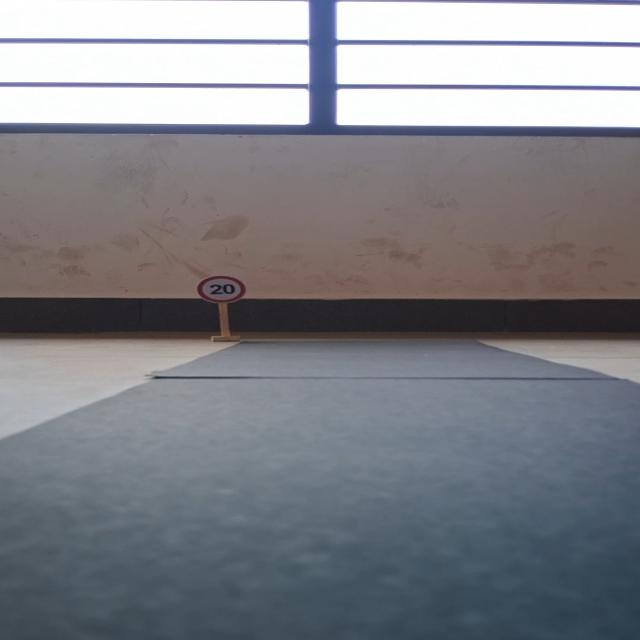Speed20: (192, 274, 252, 305)
